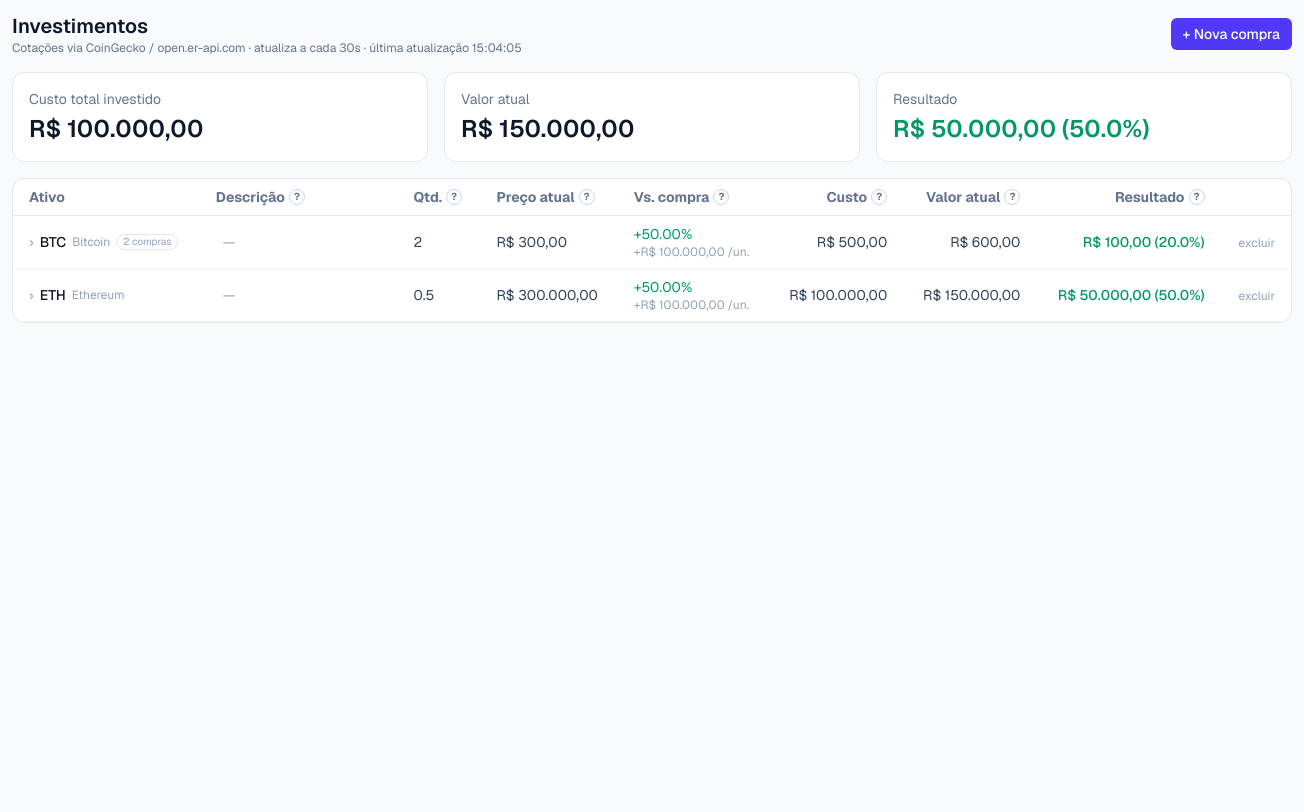
página /investimentos — compras de um ativo › dá para deixar dois ativos expandidos ao mesmo tempo
The image size is (1304, 812).
Expected: the text "BTC" is shown, 40,232 -> 66,252
Click the button with aria-label "compras de BTC" at x=104, y=242, box 29,232 -> 178,252
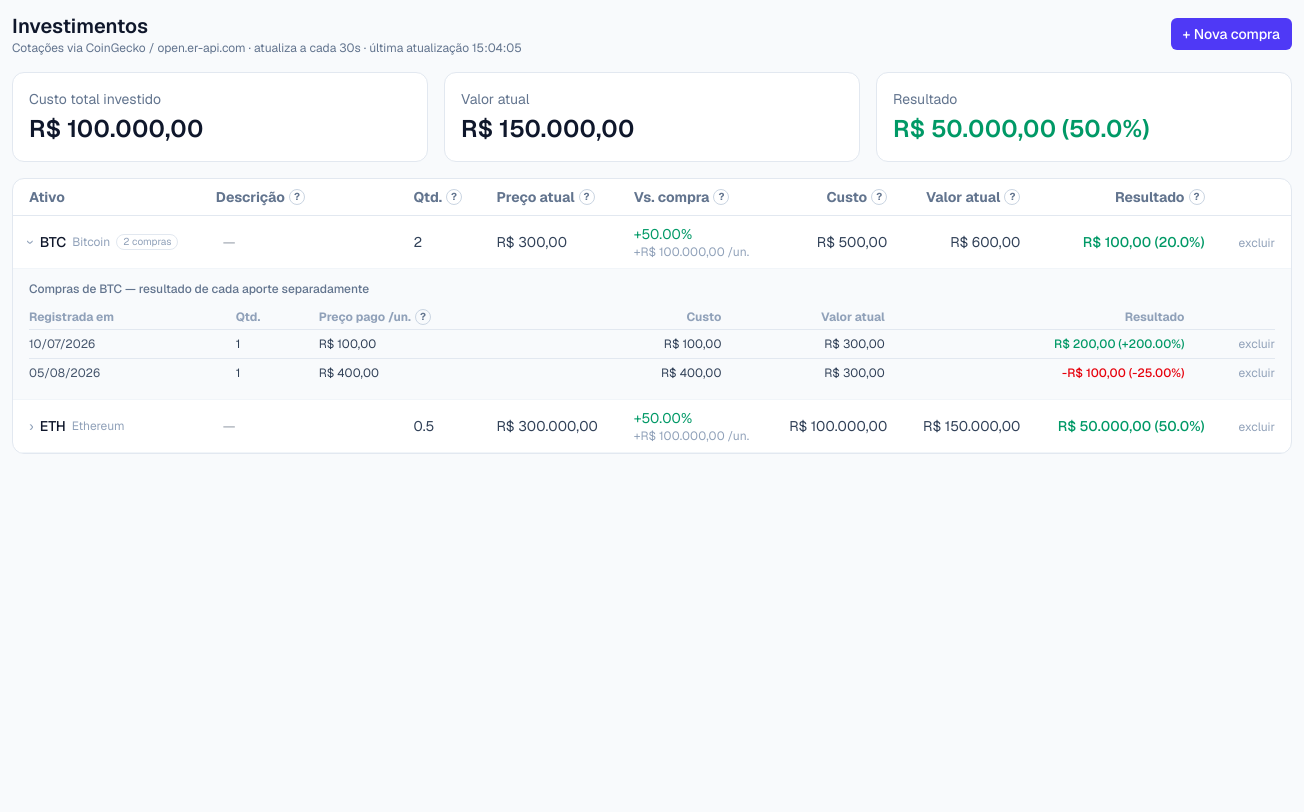
Click the button "› ETH Ethereum" at x=77, y=426, box 29,416 -> 125,436
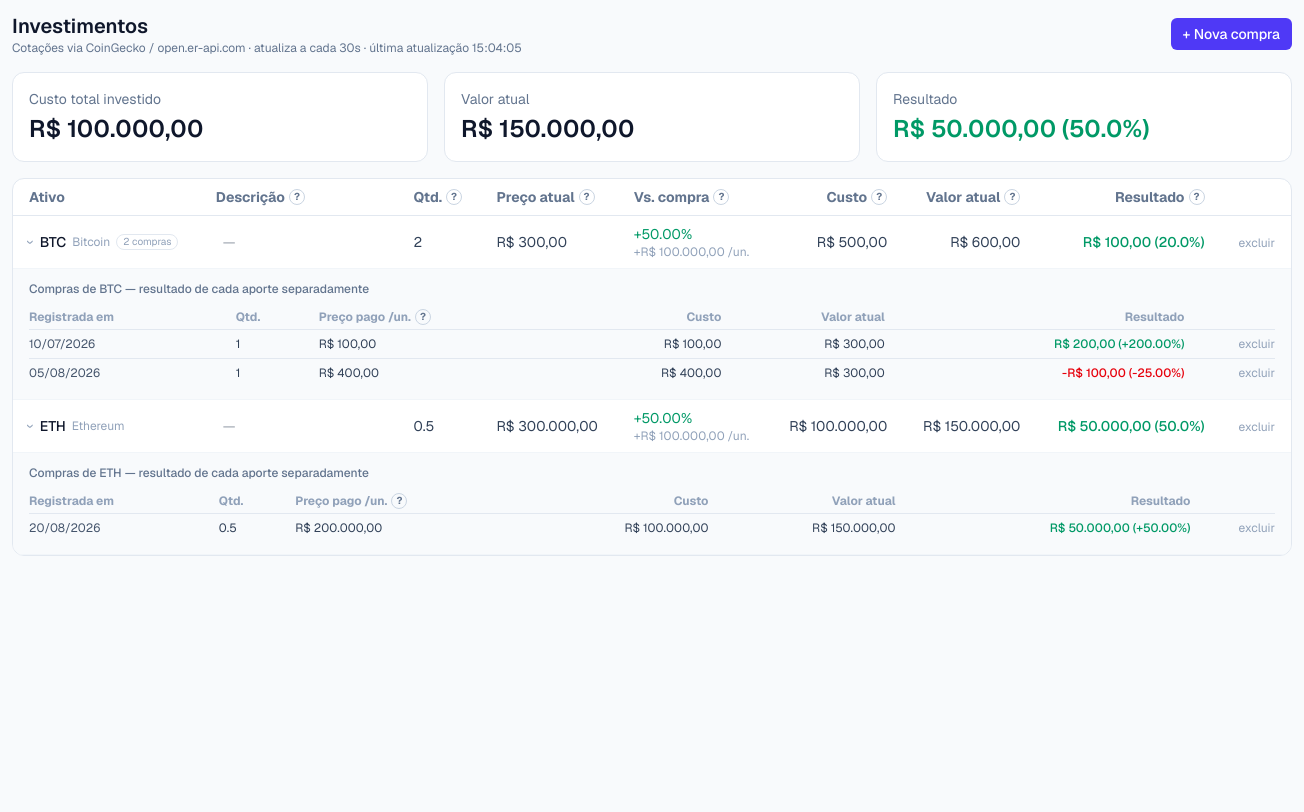
Expected: the text "Compras de BTC — resultado de cada aporte separadamente" is shown, 29,281 -> 369,297
Expected: the text "Compras de ETH — resultado de cada aporte separadamente" is shown, 29,465 -> 369,481
